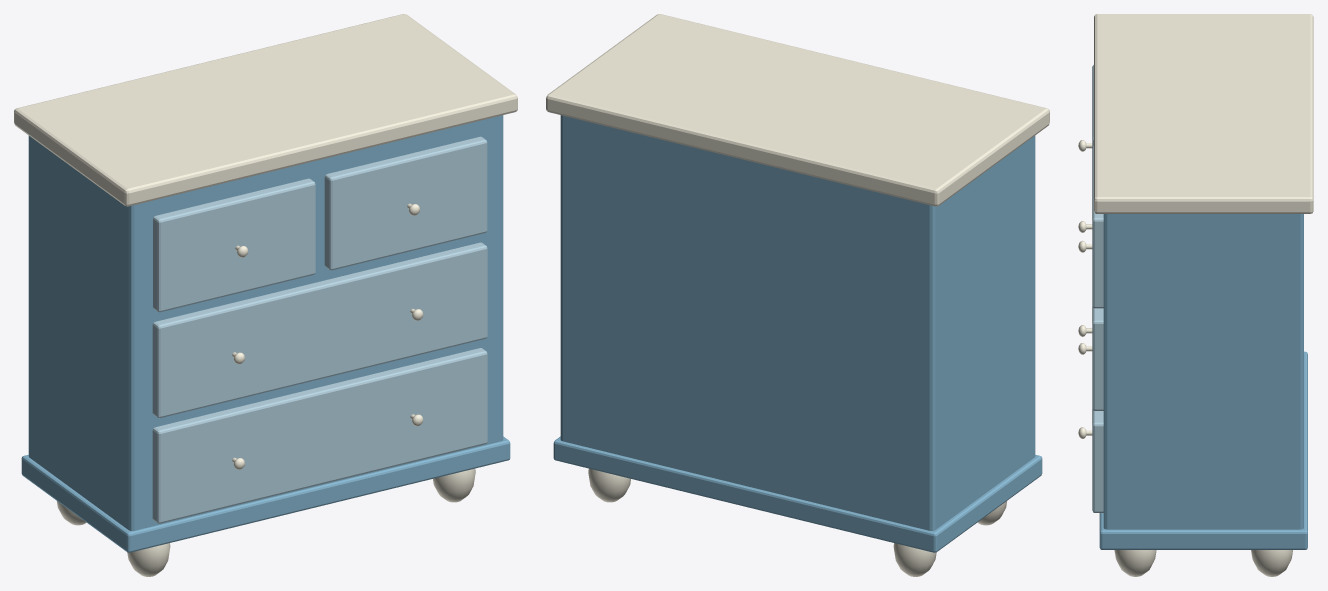
File: dresser_blue_nursery.glb
3 views of the same model, side by side, from view 1: azimuth 30°, elevation 25°; view 2: azimuth 150°, elevation 25°; view 3: azimuth 270°, elevation 25° (orthographic). The views are drawn at different scales.
Visible parts, largest first — view 1: Blue nursery dresser closed cabinet, Blue nursery dresser overhanging top, Nursery wide drawer 2 closed drawer face, Nursery wide drawer 1 closed drawer face, Nursery small upper drawer 2 closed drawer face, Nursery small upper drawer 1 closed drawer face, Blue nursery dresser base molding, Nursery dresser round foot, Nursery dresser round foot.002; view 2: Blue nursery dresser closed cabinet, Blue nursery dresser overhanging top, Blue nursery dresser base molding, Nursery dresser round foot.001, Nursery dresser round foot.003; view 3: Blue nursery dresser closed cabinet, Blue nursery dresser overhanging top, Blue nursery dresser base molding, Nursery small upper drawer 2 closed drawer face, Nursery wide drawer 2 closed drawer face, Nursery wide drawer 1 closed drawer face, Nursery dresser round foot.002, Nursery dresser round foot.003.
Boxes of the visible parts, x1,y1,x2,y2 form: Blue nursery dresser closed cabinet: [28, 115, 503, 530]; Blue nursery dresser overhanging top: [14, 14, 517, 206]; Nursery wide drawer 2 closed drawer face: [152, 242, 487, 418]; Nursery wide drawer 1 closed drawer face: [152, 348, 487, 523]; Nursery small upper drawer 2 closed drawer face: [324, 136, 487, 270]; Nursery small upper drawer 1 closed drawer face: [153, 178, 315, 312]; Blue nursery dresser base molding: [21, 436, 510, 552]; Nursery dresser round foot: [127, 543, 170, 576]; Nursery dresser round foot.002: [433, 468, 475, 502]; Blue nursery dresser closed cabinet: [560, 115, 1035, 530]; Blue nursery dresser overhanging top: [546, 14, 1049, 206]; Blue nursery dresser base molding: [553, 436, 1042, 552]; Nursery dresser round foot.001: [893, 543, 936, 576]; Nursery dresser round foot.003: [588, 468, 630, 502]; Blue nursery dresser closed cabinet: [1103, 214, 1303, 529]; Blue nursery dresser overhanging top: [1094, 14, 1313, 213]; Blue nursery dresser base molding: [1099, 351, 1307, 549]; Nursery small upper drawer 2 closed drawer face: [1092, 146, 1103, 308]; Nursery wide drawer 2 closed drawer face: [1092, 306, 1103, 410]; Nursery wide drawer 1 closed drawer face: [1092, 409, 1103, 512]; Nursery dresser round foot.002: [1114, 550, 1156, 576]; Nursery dresser round foot.003: [1251, 550, 1292, 576].
Bounding box in the file's own units: 1.03 × 1.03 × 0.5515.
